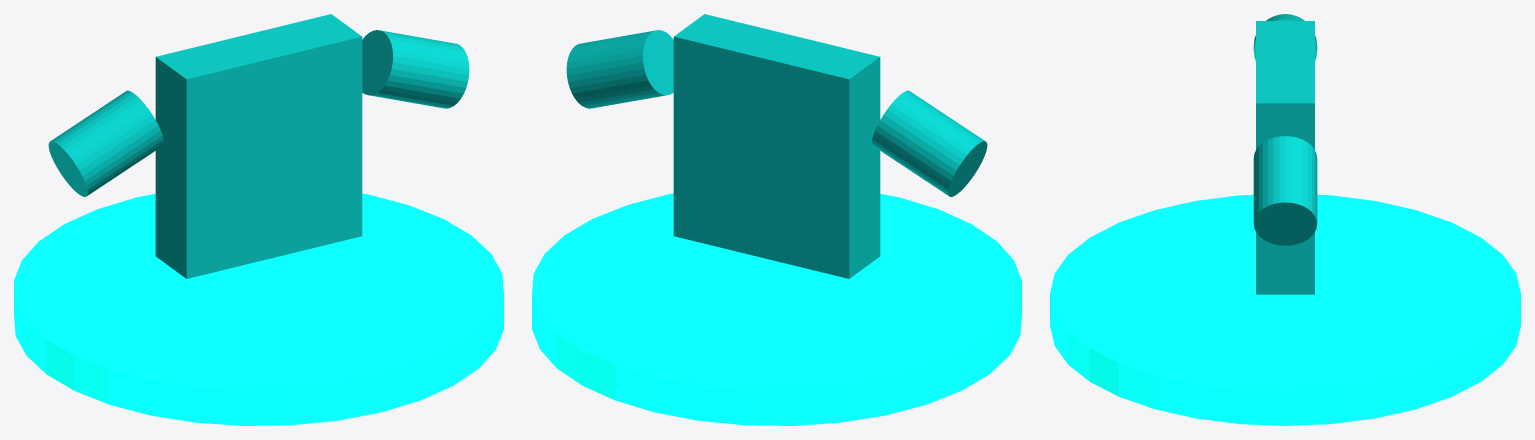
File: fashion_t_shirt.glb
3 views of the same model, side by side, from view 1: azimuth 30°, elevation 25°; view 2: azimuth 150°, elevation 25°; view 3: azimuth 270°, elevation 25° (orthographic). The views are drawn at different scales.
Parts seen in each view (by area): view 1: 06_06_Popular_Fashion_T_Shirt_ROOT_base, 06_06_Popular_Fashion_T_Shirt_part_01, 06_06_Popular_Fashion_T_Shirt_part_02, 06_06_Popular_Fashion_T_Shirt_part_03; view 2: 06_06_Popular_Fashion_T_Shirt_ROOT_base, 06_06_Popular_Fashion_T_Shirt_part_01, 06_06_Popular_Fashion_T_Shirt_part_02, 06_06_Popular_Fashion_T_Shirt_part_03; view 3: 06_06_Popular_Fashion_T_Shirt_ROOT_base, 06_06_Popular_Fashion_T_Shirt_part_01, 06_06_Popular_Fashion_T_Shirt_part_03.
Part boxes in pixels (box(x1,y1,x2,y2)): 06_06_Popular_Fashion_T_Shirt_ROOT_base: box(14, 193, 503, 425); 06_06_Popular_Fashion_T_Shirt_part_01: box(155, 14, 362, 278); 06_06_Popular_Fashion_T_Shirt_part_02: box(48, 90, 163, 196); 06_06_Popular_Fashion_T_Shirt_part_03: box(362, 30, 469, 108); 06_06_Popular_Fashion_T_Shirt_ROOT_base: box(532, 193, 1021, 425); 06_06_Popular_Fashion_T_Shirt_part_01: box(673, 14, 880, 278); 06_06_Popular_Fashion_T_Shirt_part_02: box(872, 90, 987, 196); 06_06_Popular_Fashion_T_Shirt_part_03: box(566, 30, 673, 108); 06_06_Popular_Fashion_T_Shirt_ROOT_base: box(1050, 194, 1520, 425); 06_06_Popular_Fashion_T_Shirt_part_01: box(1256, 21, 1314, 294); 06_06_Popular_Fashion_T_Shirt_part_03: box(1253, 136, 1317, 245).
Size of the model in its own units: 0.76 by 0.471 by 0.76.
